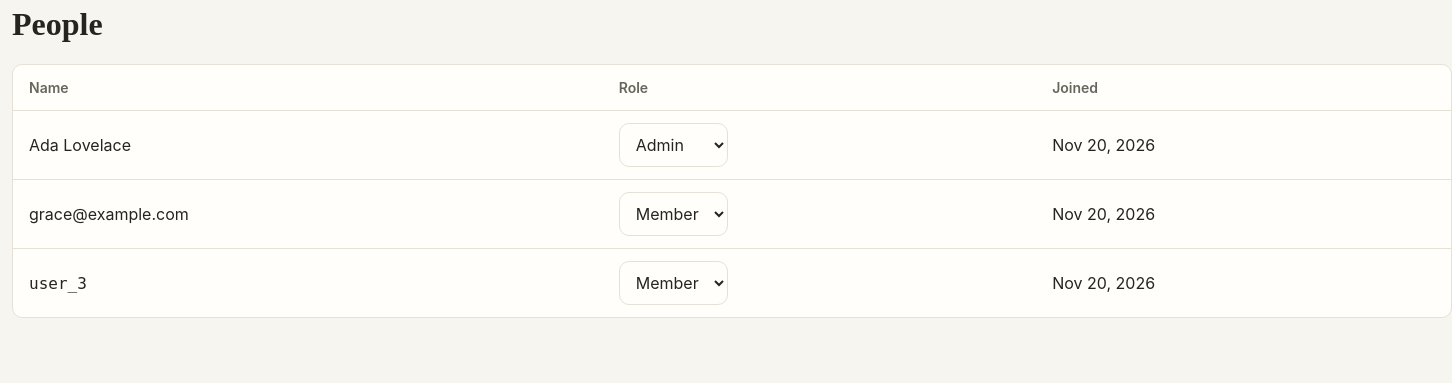
Scenario: PeoplePage › on a 502, keeps the old Role and says Clerk couldn't be reached
Step 1. Select "Admin" in the dropdown named "Role for grace@example.com" → (673, 214), box [619,192,728,236]
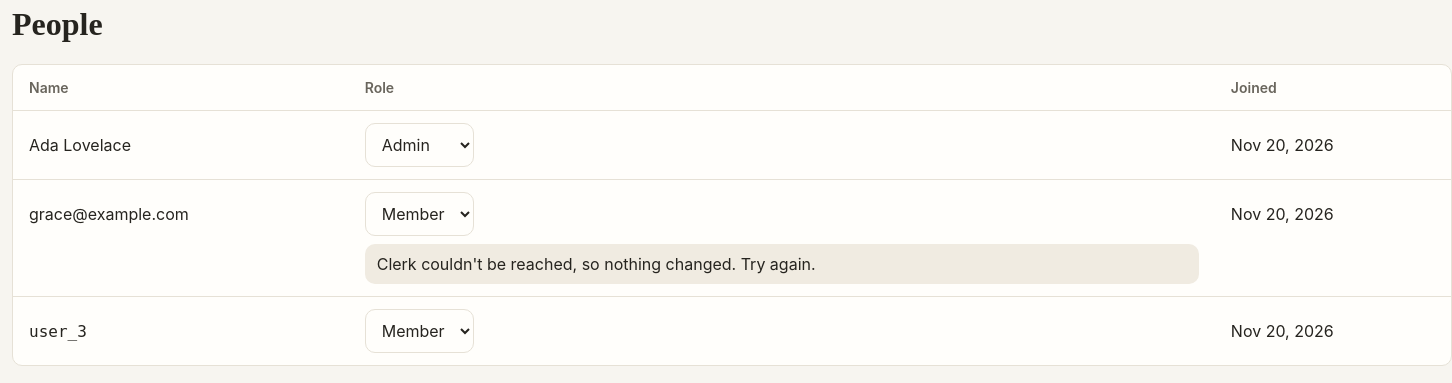
Expected: the dropdown named "Role for grace@example.com" is enabled, [365,192,474,236]
Expected: the message reads "Clerk couldn't be reached, so nothing changed. Try again.", [377,254,816,274]
